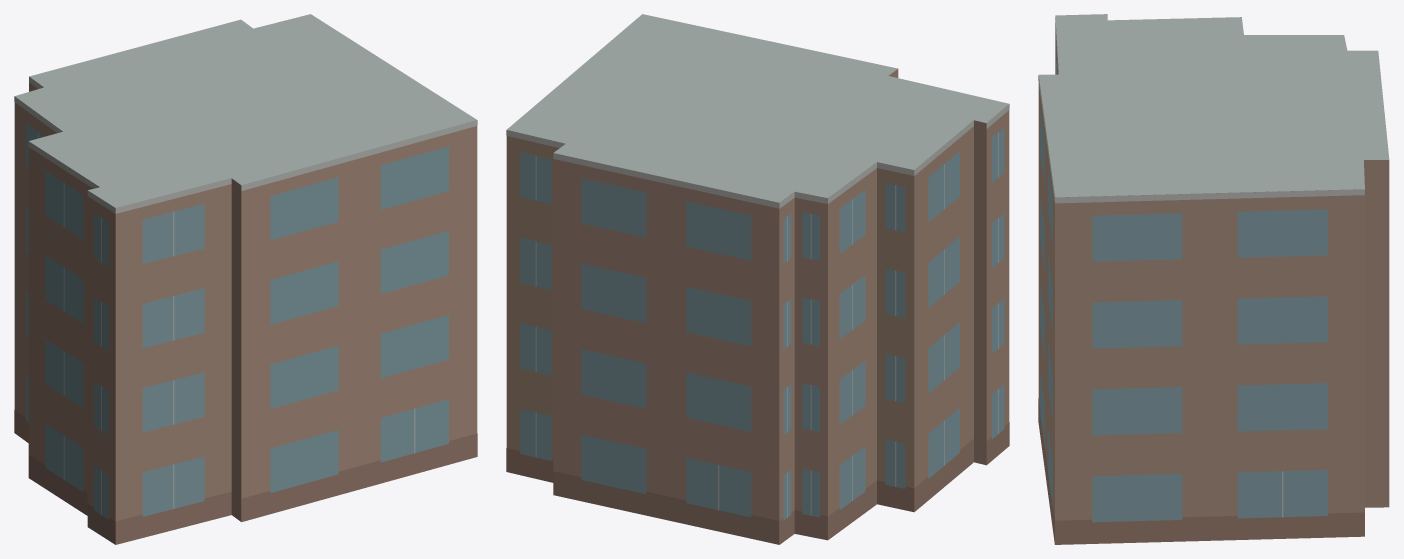
The model's file is survey-upis-32743991.glb.
3 views of the same model, side by side, from view 1: azimuth 30°, elevation 25°; view 2: azimuth 150°, elevation 25°; view 3: azimuth 270°, elevation 25° (orthographic). The views are drawn at different scales.
Visible parts, largest first — view 1: survey-upis-32743991.tmp; view 2: survey-upis-32743991.tmp; view 3: survey-upis-32743991.tmp.
Boxes of the visible parts, <box> form: survey-upis-32743991.tmp: <box>14,14,477,544</box>; survey-upis-32743991.tmp: <box>506,14,1009,544</box>; survey-upis-32743991.tmp: <box>1038,14,1389,544</box>.
Size of the model in its own units: 15.97 by 14.1 by 12.91.
